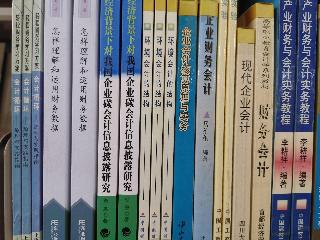book-spine: (66, 2, 100, 240), (288, 0, 319, 240), (43, 0, 71, 240), (172, 1, 200, 240), (269, 2, 297, 240), (116, 1, 143, 240), (192, 1, 219, 239), (94, 1, 120, 240), (250, 3, 275, 240), (230, 28, 255, 239), (153, 1, 174, 240), (159, 1, 178, 239), (220, 1, 237, 240), (137, 2, 154, 238), (212, 1, 228, 238), (30, 1, 44, 239), (22, 0, 34, 240), (11, 1, 23, 240)
